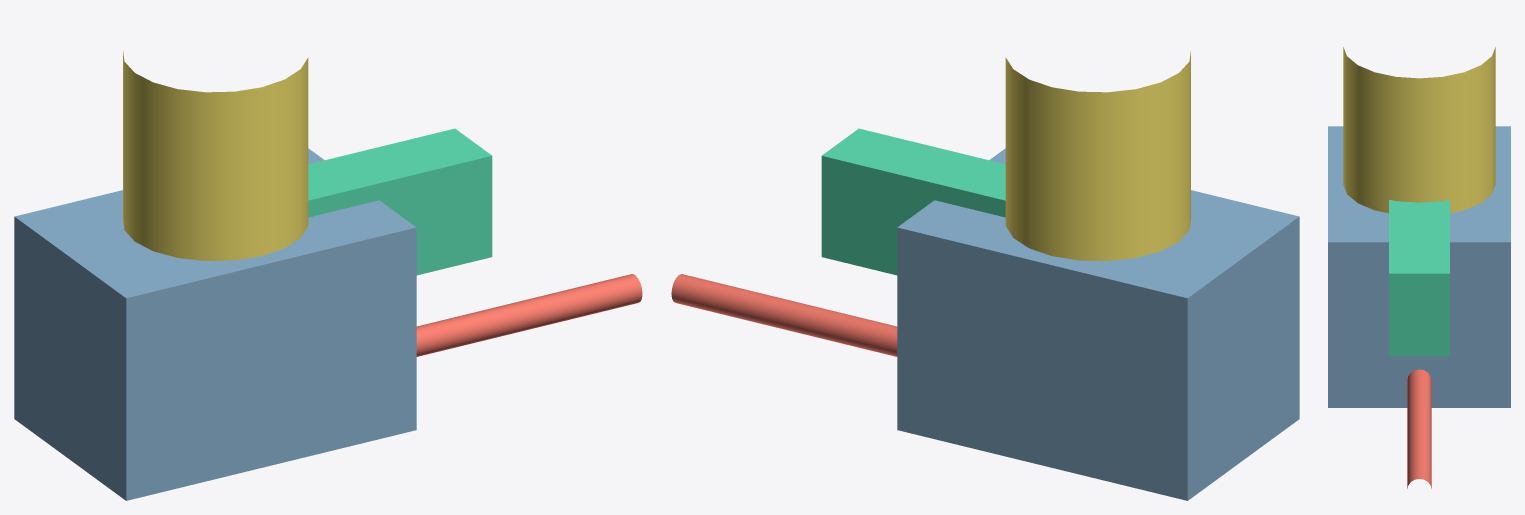
Rendered from cad_transformations_solid_modeling.glb.
The picture shows the model from 3 angles, left to right: view 1: azimuth 30°, elevation 25°; view 2: azimuth 150°, elevation 25°; view 3: azimuth 270°, elevation 25°; orthographic projection. The views are drawn at different scales.
Visible parts, largest first — view 1: SolidCSGPrimitiveBaseBlock, SolidCylinderBooleanUnion, ExtrudedProfileRibFeature, CoordinateTransformationFrame; view 2: SolidCSGPrimitiveBaseBlock, SolidCylinderBooleanUnion, ExtrudedProfileRibFeature, CoordinateTransformationFrame; view 3: SolidCSGPrimitiveBaseBlock, SolidCylinderBooleanUnion, ExtrudedProfileRibFeature, CoordinateTransformationFrame.
Boxes of the visible parts, <box> form: SolidCSGPrimitiveBaseBlock: <box>14,148,416,500</box>; SolidCylinderBooleanUnion: <box>123,51,308,260</box>; ExtrudedProfileRibFeature: <box>308,128,492,275</box>; CoordinateTransformationFrame: <box>416,274,642,356</box>; SolidCSGPrimitiveBaseBlock: <box>897,148,1299,500</box>; SolidCylinderBooleanUnion: <box>1005,51,1190,260</box>; ExtrudedProfileRibFeature: <box>821,128,1005,275</box>; CoordinateTransformationFrame: <box>671,274,897,356</box>; SolidCSGPrimitiveBaseBlock: <box>1328,126,1510,407</box>; SolidCylinderBooleanUnion: <box>1343,47,1495,213</box>; ExtrudedProfileRibFeature: <box>1389,199,1449,356</box>; CoordinateTransformationFrame: <box>1407,369,1431,488</box>.
Size of the model in its own units: 1.75 by 1.1 by 0.6.
